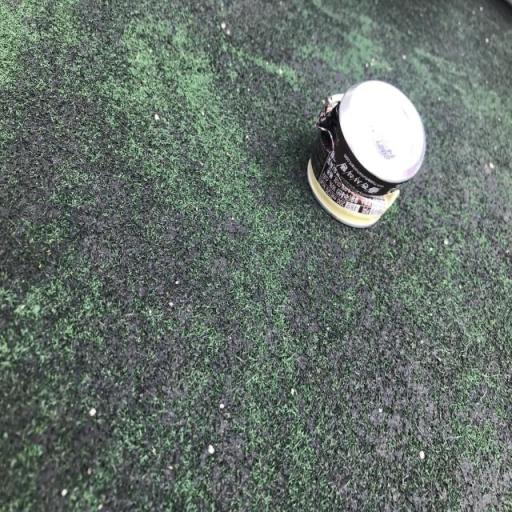metal: (282, 36, 454, 268)
